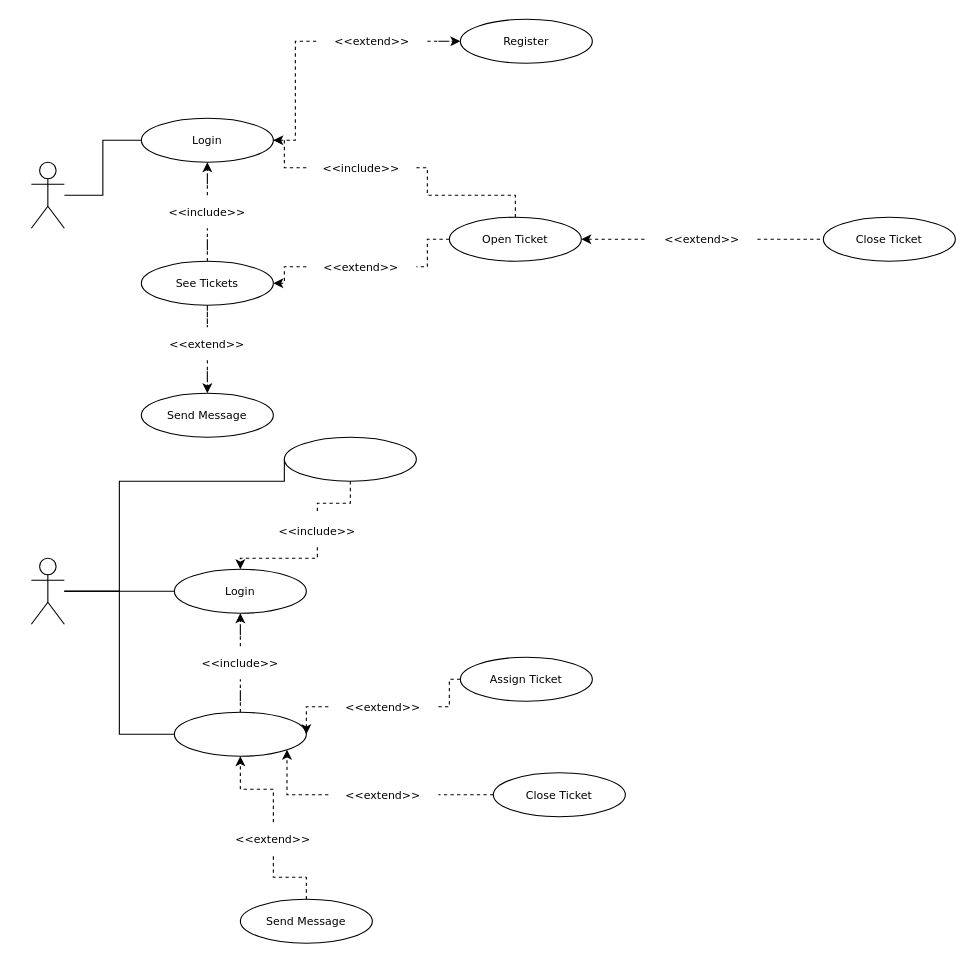
Some shapes in this 975 by 963 pixel diagram are drawn without their labels. Each missing label, with the centre of its shape:
"Customer" belongs at point 47,194.
"See Dashboard" belongs at point 349,458.
"See Tickets Pool" belongs at point 239,733.
"Technician" belongs at point 47,590.
